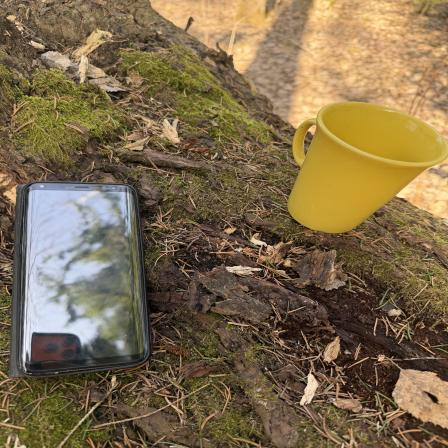phone: (18, 180, 150, 377)
yellow_cup: (292, 100, 444, 235)
